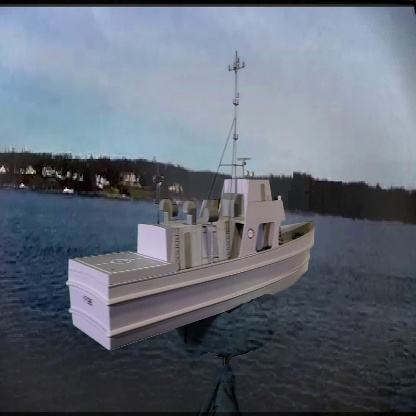YP689: (67, 56, 316, 353)
